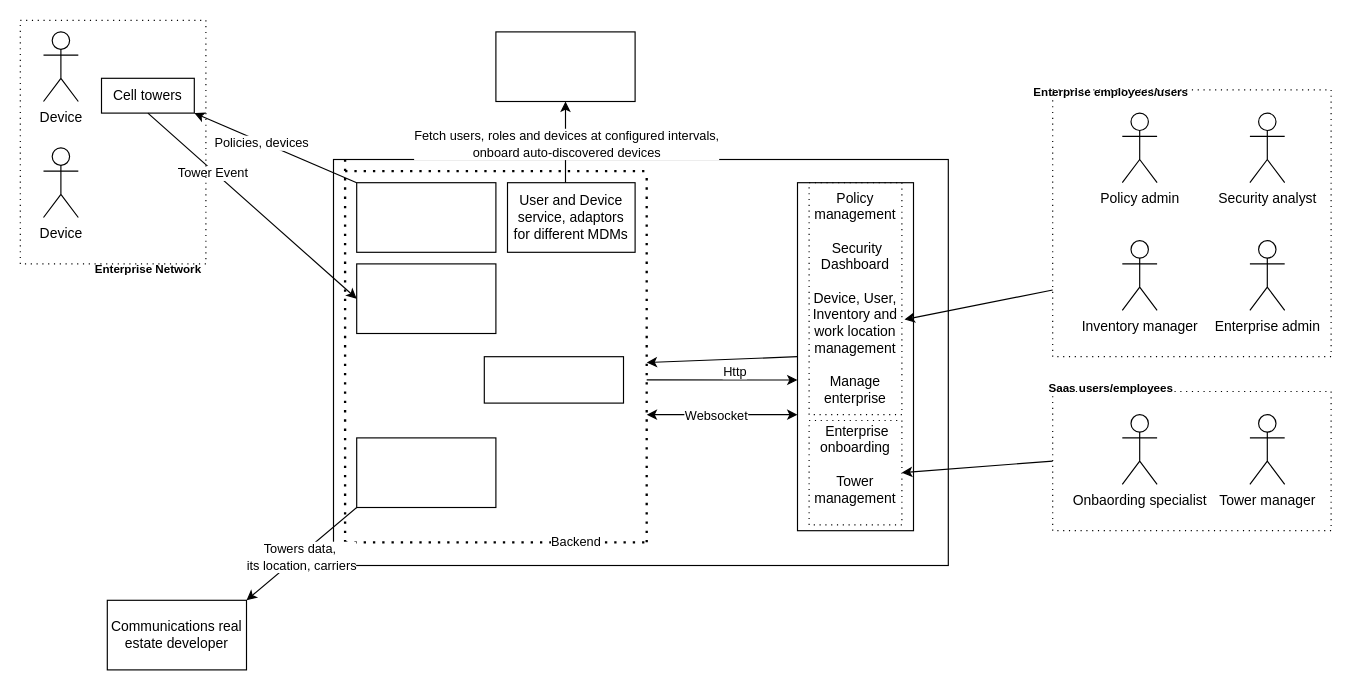
This 1351x690 diagram has some shape labels left out. The shapes that lost their labels are listed below. From the top down, each one's centre as x and y in pixels, then its label:
At point 565,66: "Enterprise MDM".
At point 426,217: "Policy engine,, policy adaptors for different equipments".
At point 426,298: "Event service".
At point 553,379: "Other services".
At point 426,472: "Tower data service and adaptors".
